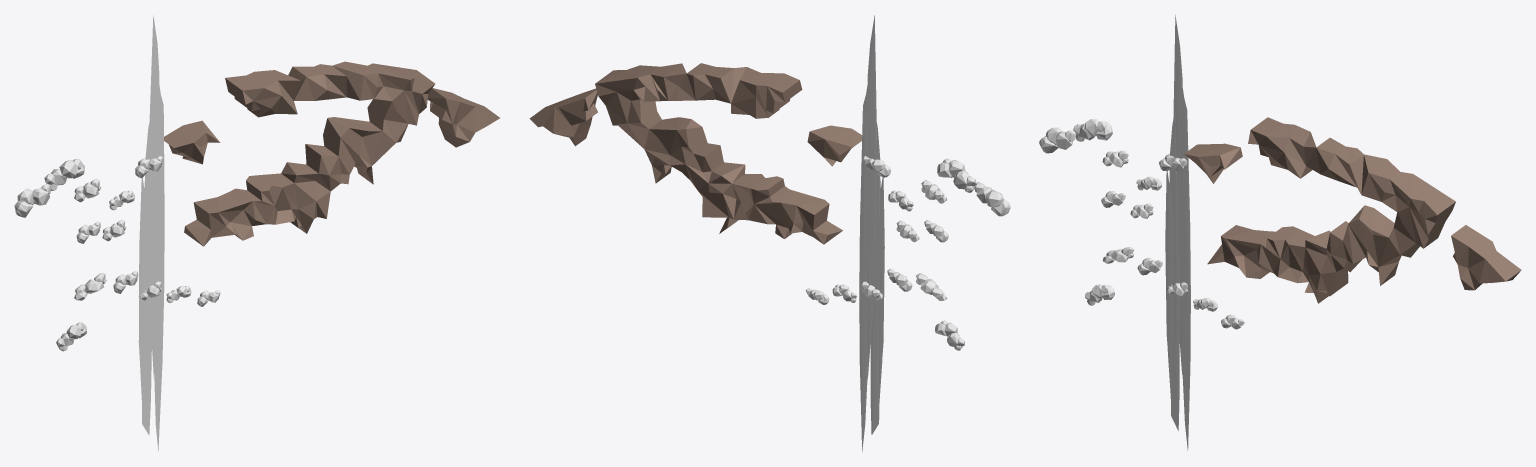
The model's file is LrgShard_NumberSevenIsland_3DMesh.fbx.
The picture shows the model from 3 angles, left to right: view 1: azimuth 30°, elevation 25°; view 2: azimuth 150°, elevation 25°; view 3: azimuth 330°, elevation 25°; orthographic projection.
Visible parts, largest first — view 1: MainIsland_Seven, Cloud21, Island2, Island1, Cloud17:Cloud1, Cloud18:Cloud2; view 2: MainIsland_Seven, Cloud21, Island2, Island1, Cloud18:Cloud2, Cloud17:Cloud1, Cloud24; view 3: MainIsland_Seven, Cloud21, Island2, Island1, Cloud18:Cloud2, Cloud17:Cloud1.
Boxes of the visible parts, x1,y1,x2,y2 form: MainIsland_Seven: [184, 61, 435, 246]; Cloud21: [138, 15, 164, 450]; Island2: [427, 88, 499, 147]; Island1: [164, 120, 220, 164]; Cloud17:Cloud1: [14, 183, 50, 217]; Cloud18:Cloud2: [44, 159, 84, 190]; MainIsland_Seven: [595, 63, 842, 244]; Cloud21: [859, 15, 884, 451]; Island2: [529, 88, 597, 146]; Island1: [807, 125, 862, 166]; Cloud18:Cloud2: [937, 158, 976, 192]; Cloud17:Cloud1: [974, 182, 1010, 216]; Cloud24: [935, 320, 964, 350]; MainIsland_Seven: [1207, 117, 1455, 303]; Cloud21: [1165, 15, 1190, 450]; Island2: [1451, 225, 1521, 290]; Island1: [1184, 143, 1242, 183]; Cloud18:Cloud2: [1073, 119, 1112, 141]; Cloud17:Cloud1: [1039, 127, 1076, 153].
Bounding box in the file's own units: 87.05 × 77.38 × 6.72.
